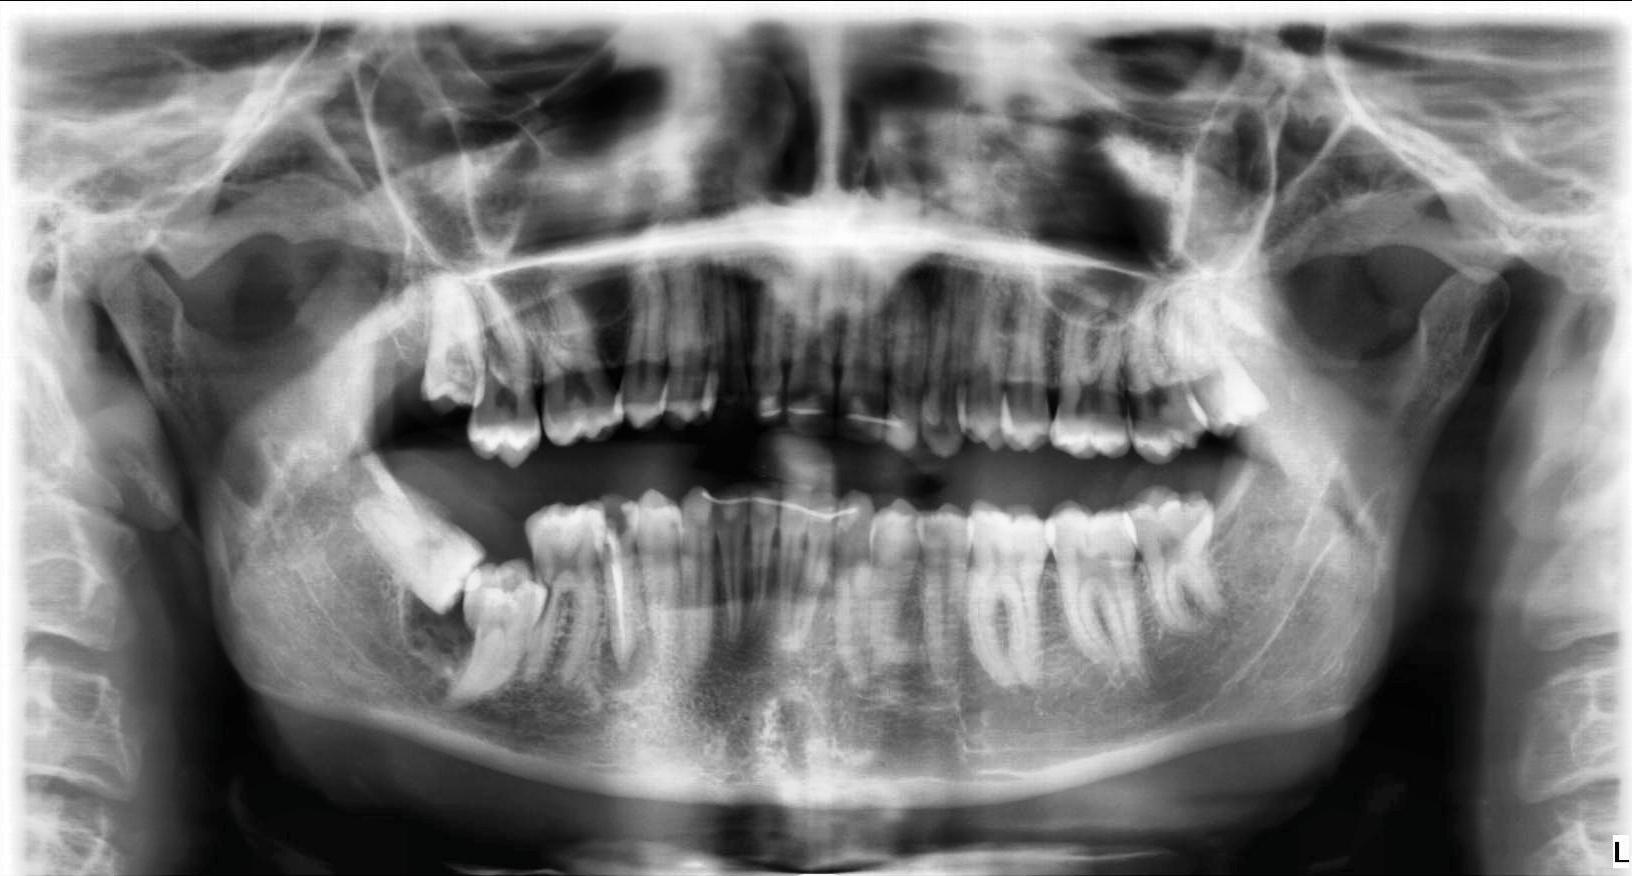enflamatuar: (377, 448, 548, 671)
